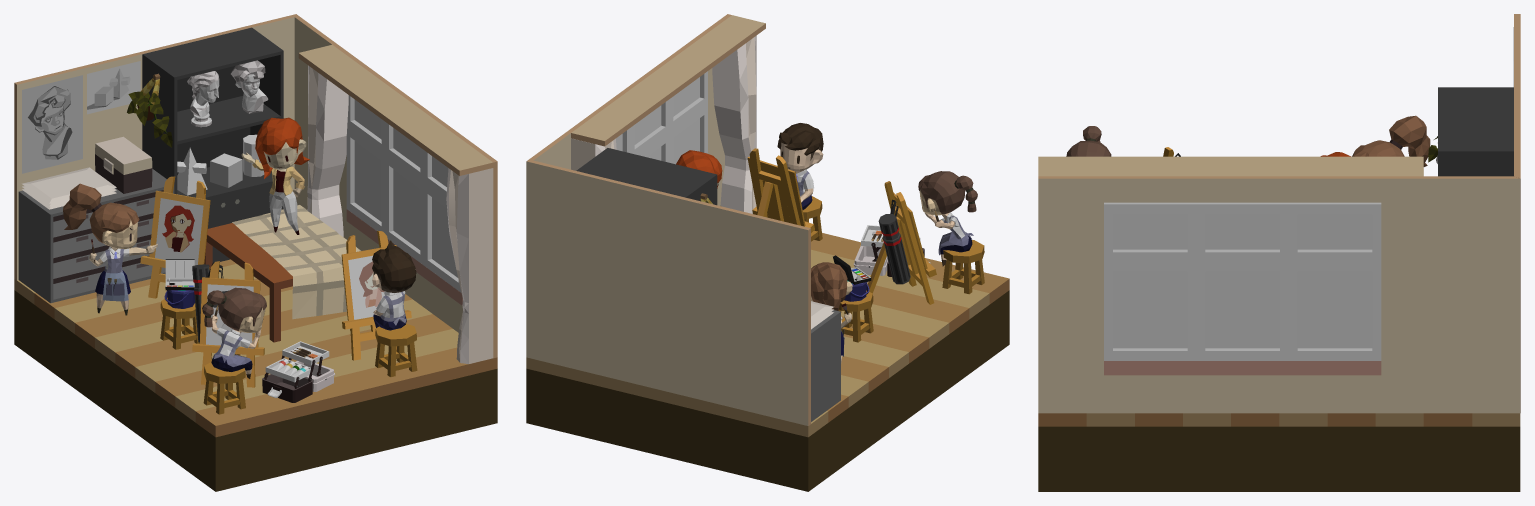
Rendered from 0051_artClass.fbx.
3 renders of one model, left to right at view 1: azimuth 30°, elevation 25°; view 2: azimuth 150°, elevation 25°; view 3: azimuth 270°, elevation 25°, orthographic. The views are drawn at different scales.
Parts seen in each view (by area): view 1: Plate, Shelf, Wall_Window, Cabinet, Wall_A, Curtain2, Cloth, Window_Frame, Window_Glass, Curtain, Sketch_Giuliano, Chair (×3) (+28 smaller); view 2: Wall_A, Plate, Wall_Window, Curtain2, Shelf, Chair (×3), Portrait_TeacherB, Cabinet, Window_Frame, Portrait_Boy, Window_Glass, SchoolGirlB_Head (+7 smaller); view 3: Wall_Window, Plate, Window_Glass, Window_Frame, Shelf, SchoolGirlA_Head, Wall_A, SchoolGirlB_Head.
Part boxes in pixels (x1,y1,x2,y2): Plate: [14, 259, 497, 491]; Shelf: [142, 27, 283, 262]; Wall_Window: [294, 14, 497, 358]; Cabinet: [18, 169, 174, 303]; Wall_A: [14, 14, 295, 280]; Curtain2: [446, 168, 493, 364]; Cloth: [232, 205, 360, 319]; Window_Frame: [346, 95, 461, 292]; Window_Glass: [354, 99, 457, 277]; Curtain: [307, 65, 348, 236]; Sketch_Giuliano: [22, 75, 82, 173]; Chair (×3): [160, 297, 417, 414]; Wall_A: [526, 160, 810, 425]; Plate: [526, 233, 1009, 491]; Wall_Window: [527, 14, 765, 205]; Curtain2: [712, 35, 756, 213]; Shelf: [576, 148, 717, 205]; Chair (×3): [802, 196, 984, 342]; Portrait_TeacherB: [747, 148, 814, 232]; Cabinet: [811, 310, 840, 421]; Window_Frame: [622, 71, 707, 163]; Portrait_Boy: [867, 181, 936, 304]; Window_Glass: [616, 77, 699, 164]; SchoolGirlB_Head: [918, 171, 977, 215]; Wall_Window: [1038, 156, 1520, 413]; Plate: [1038, 413, 1520, 491]; Window_Glass: [1113, 214, 1372, 348]; Window_Frame: [1104, 202, 1381, 360]; Shelf: [1438, 87, 1513, 176]; SchoolGirlA_Head: [1352, 115, 1430, 166]; Wall_A: [1514, 14, 1520, 412]; SchoolGirlB_Head: [1066, 126, 1111, 156].
Size of the model in its own units: 7.96 by 6.98 by 9.73.
